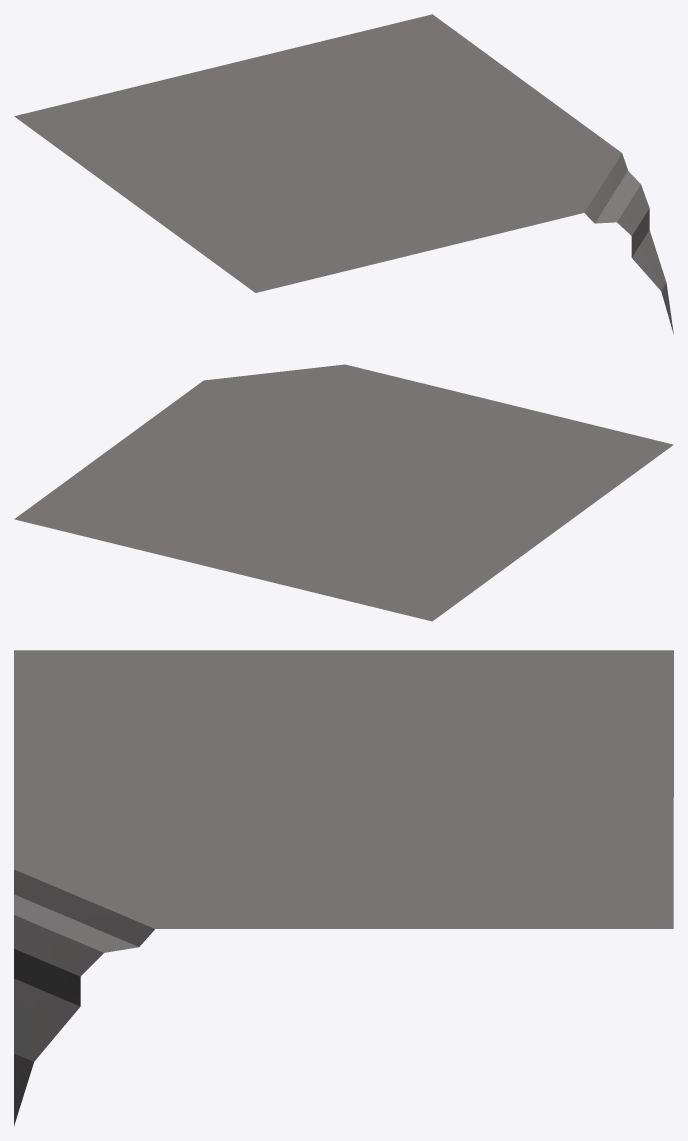
File: Corner_Border_Wall.fbx
The picture shows the model from 3 angles, top to bottom: view 1: azimuth 30°, elevation 25°; view 2: azimuth 150°, elevation 25°; view 3: azimuth 270°, elevation 25°; orthographic projection. The views are drawn at different scales.
Parts seen in each view (by area): view 1: Corner_Wall; view 2: Corner_Wall; view 3: Corner_Wall.
Boxes of the visible parts, bbox=[...] form: Corner_Wall: bbox=[14, 14, 673, 333]; Corner_Wall: bbox=[14, 364, 673, 621]; Corner_Wall: bbox=[14, 650, 673, 1125].
Size of the model in its own units: 839 by 277 by 839.
1 material, 1 textured.
